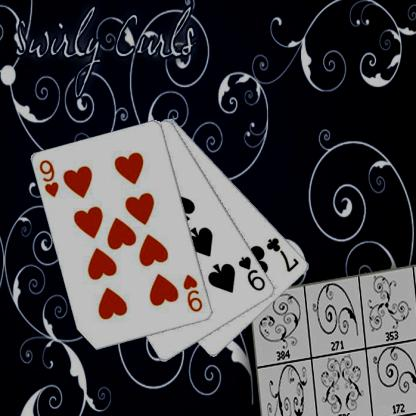7C: (264, 235, 300, 273)
9H: (180, 272, 204, 313), (37, 158, 60, 198)
9S: (236, 254, 267, 293)
